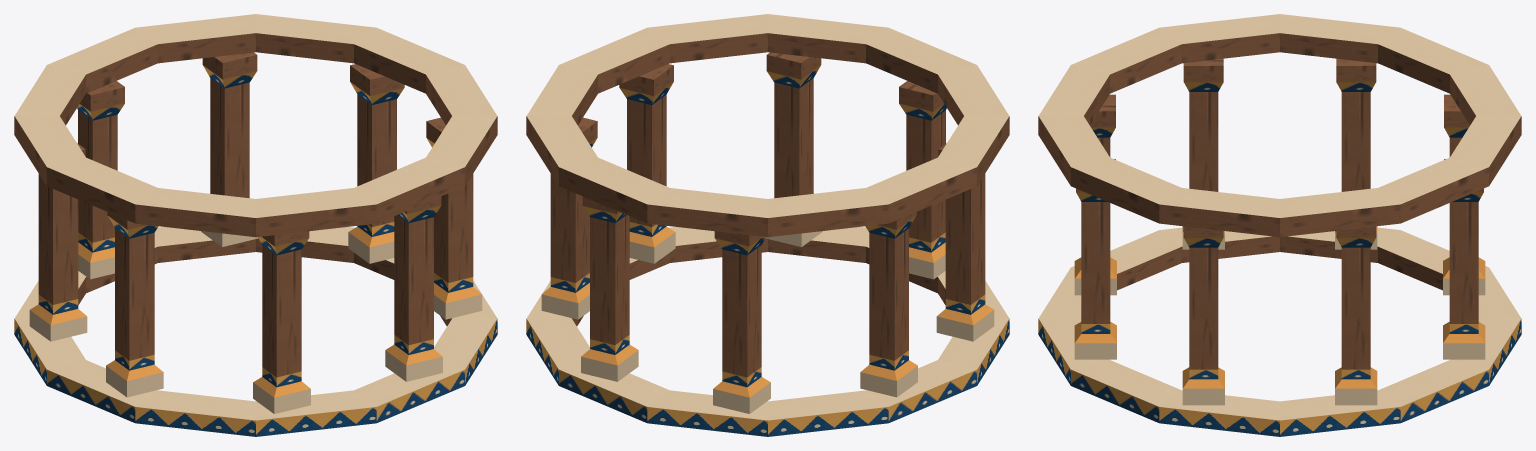
The model's file is rc_wa_tower_pavilion_8x8x4.glb.
The picture shows the model from 3 angles, left to right: view 1: azimuth 30°, elevation 25°; view 2: azimuth 150°, elevation 25°; view 3: azimuth 270°, elevation 25°; orthographic projection.
Parts seen in each view (by area): view 1: SM_RC_WA_TowerPavilion_8x8x4; view 2: SM_RC_WA_TowerPavilion_8x8x4; view 3: SM_RC_WA_TowerPavilion_8x8x4.
Part boxes in pixels (x1,y1,x2,y2): SM_RC_WA_TowerPavilion_8x8x4: (14, 14, 497, 436); SM_RC_WA_TowerPavilion_8x8x4: (526, 14, 1009, 436); SM_RC_WA_TowerPavilion_8x8x4: (1038, 14, 1521, 436).
Size of the model in its own units: 8 by 4 by 8.
Materials: 1 (1 with a texture image).
